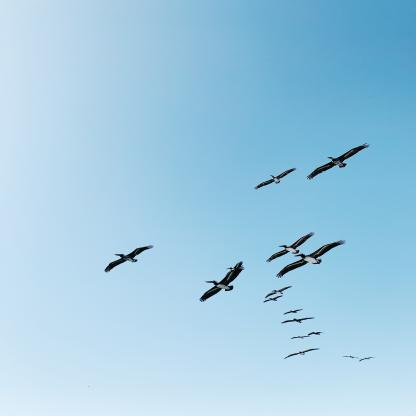bird: (276, 240, 346, 278), (307, 143, 370, 180), (200, 265, 244, 302), (266, 232, 315, 262), (104, 244, 154, 272), (254, 167, 297, 190), (284, 348, 320, 359), (264, 286, 293, 298), (226, 260, 244, 276), (281, 317, 315, 324), (263, 295, 284, 303), (283, 309, 304, 315), (359, 357, 376, 362), (307, 332, 325, 336), (290, 336, 310, 339), (343, 356, 361, 359)
